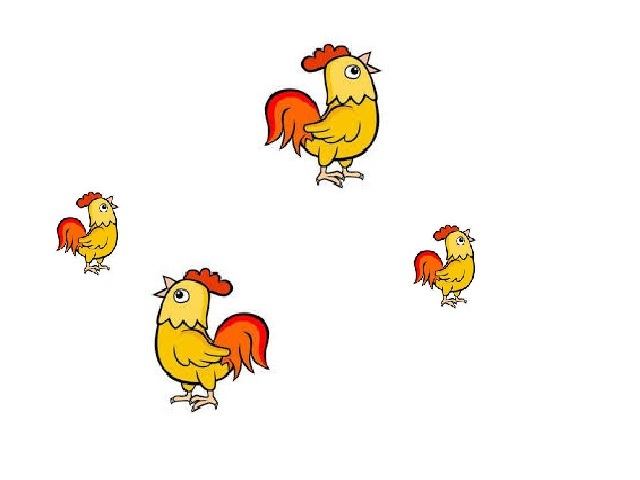crown: (186, 266, 232, 294), (301, 43, 350, 68), (429, 224, 457, 240), (73, 193, 101, 206)
eyes: (343, 63, 361, 81), (172, 288, 191, 303), (454, 235, 468, 244), (99, 203, 108, 210)
feet: (319, 161, 370, 194), (171, 391, 221, 415), (439, 293, 465, 311), (85, 261, 109, 276)
tail: (217, 314, 272, 383), (265, 88, 321, 151), (414, 250, 442, 288), (58, 217, 84, 257)
